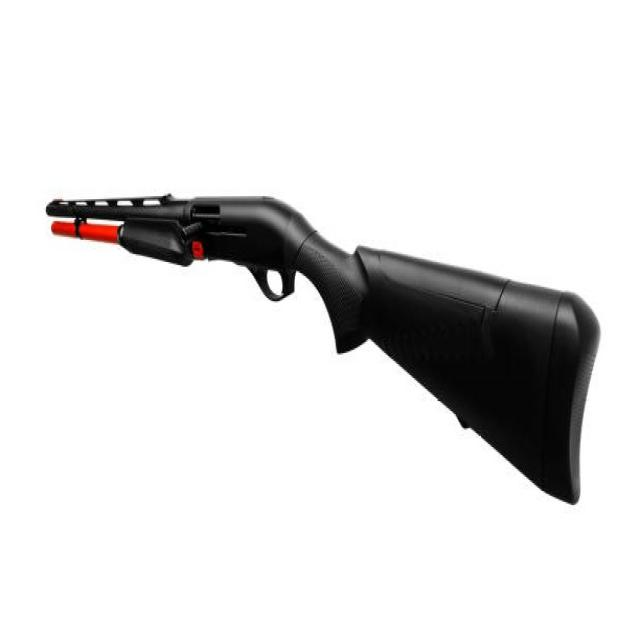rifle: (43, 190, 607, 514)
